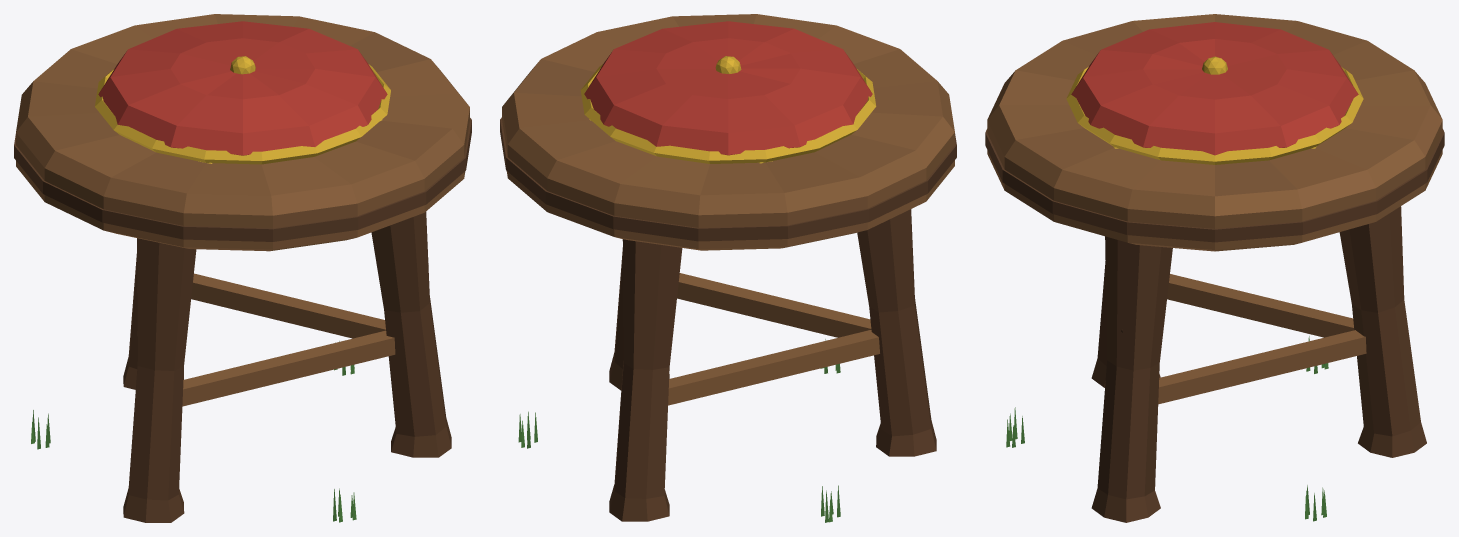
File: Decor_Beanstalk_GiantStool.fbx
3 views of the same model, side by side, from view 1: azimuth 30°, elevation 25°; view 2: azimuth 150°, elevation 25°; view 3: azimuth 270°, elevation 25° (orthographic).
Parts seen in each view (by area): view 1: GiantStool_Body; view 2: GiantStool_Body; view 3: GiantStool_Body.
Boxes of the visible parts, x1,y1,x2,y2 form: GiantStool_Body: [14, 14, 471, 522]; GiantStool_Body: [500, 14, 956, 522]; GiantStool_Body: [985, 14, 1444, 522].
Bounding box in the file's own units: 19 × 17.6 × 19.
